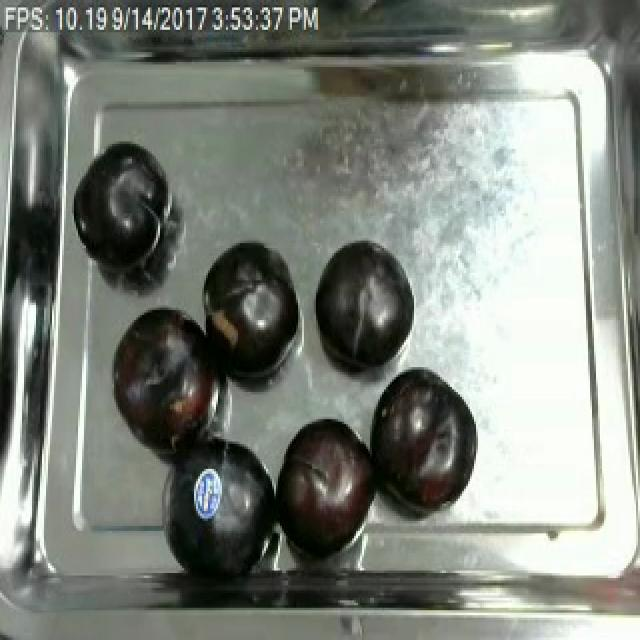Fruit: (362, 362, 482, 519), (102, 300, 220, 457), (270, 409, 384, 558), (198, 233, 304, 387), (308, 233, 414, 377), (72, 141, 178, 273)
